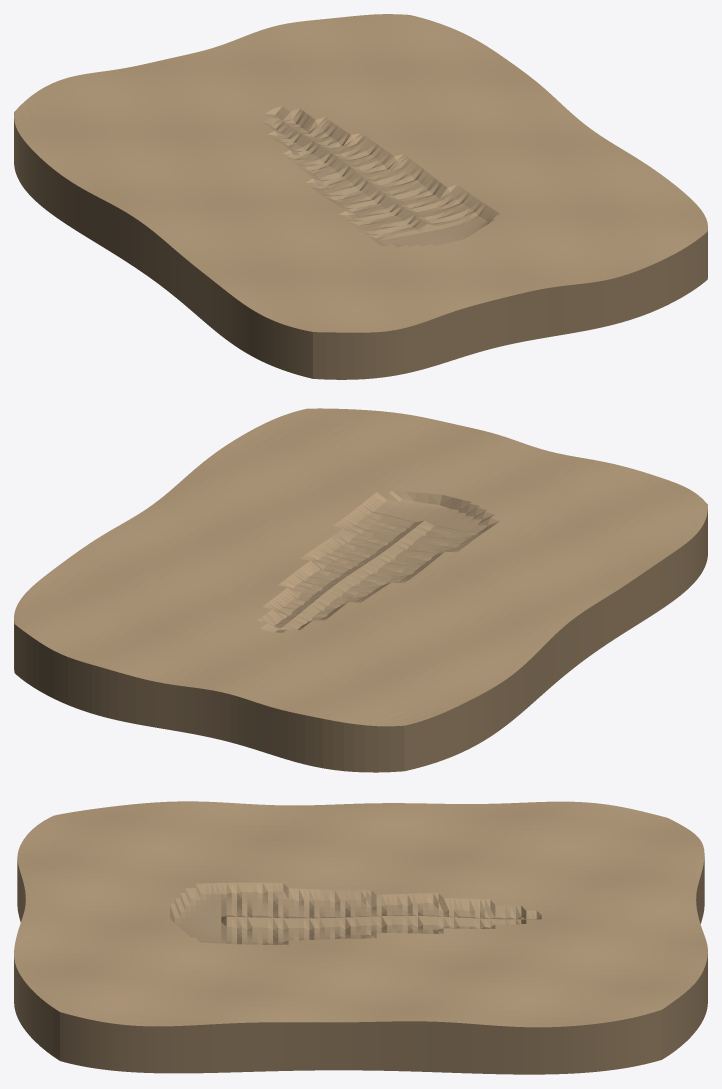
3 views of the same model, one above another, from view 1: azimuth 30°, elevation 25°; view 2: azimuth 150°, elevation 25°; view 3: azimuth 270°, elevation 25° (orthographic).
Parts seen in each view (by area): view 1: negative_hyporelief_N14_03_informed_spriggina_impression_int; view 2: negative_hyporelief_N14_03_informed_spriggina_impression_int; view 3: negative_hyporelief_N14_03_informed_spriggina_impression_int.
Part boxes in pixels (bbox=[...]): negative_hyporelief_N14_03_informed_spriggina_impression_int: bbox=[14, 14, 707, 379]; negative_hyporelief_N14_03_informed_spriggina_impression_int: bbox=[14, 408, 707, 772]; negative_hyporelief_N14_03_informed_spriggina_impression_int: bbox=[14, 801, 707, 1074].
Size of the model in its own units: 0.0507 by 0.00532 by 0.0661.
